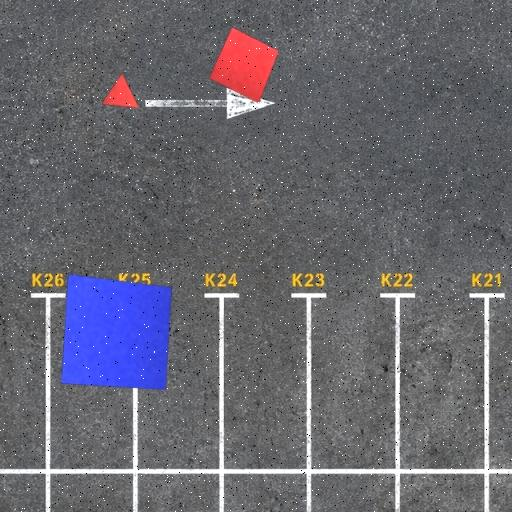BLUE_SQUARE: (61, 274, 173, 391)
RED_SQUARE: (209, 26, 279, 104)
